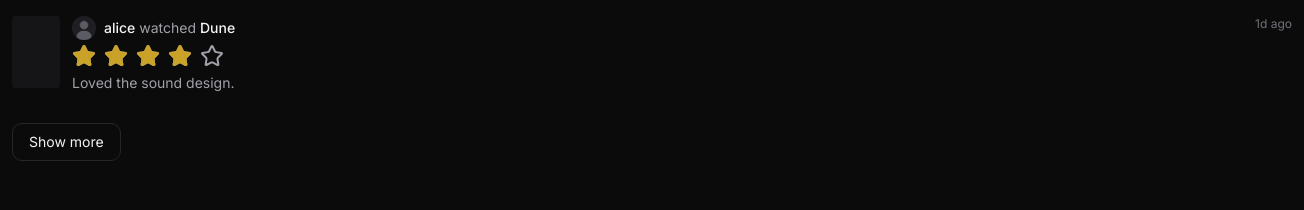
Test: ActivityFeed › shows an error when loading more fails
What coordinates should you click on to do the following:
click the button "Show more"
I would click on:
 (66, 142)
Its box is [12,123,121,161].
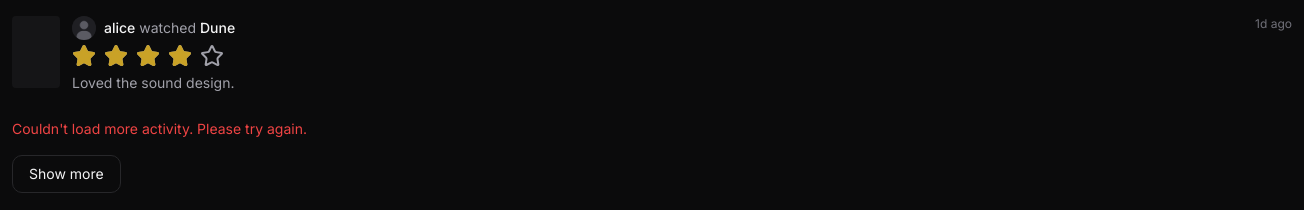
Expected: the message shows "Couldn't load more activity.", [12,120,307,137]
